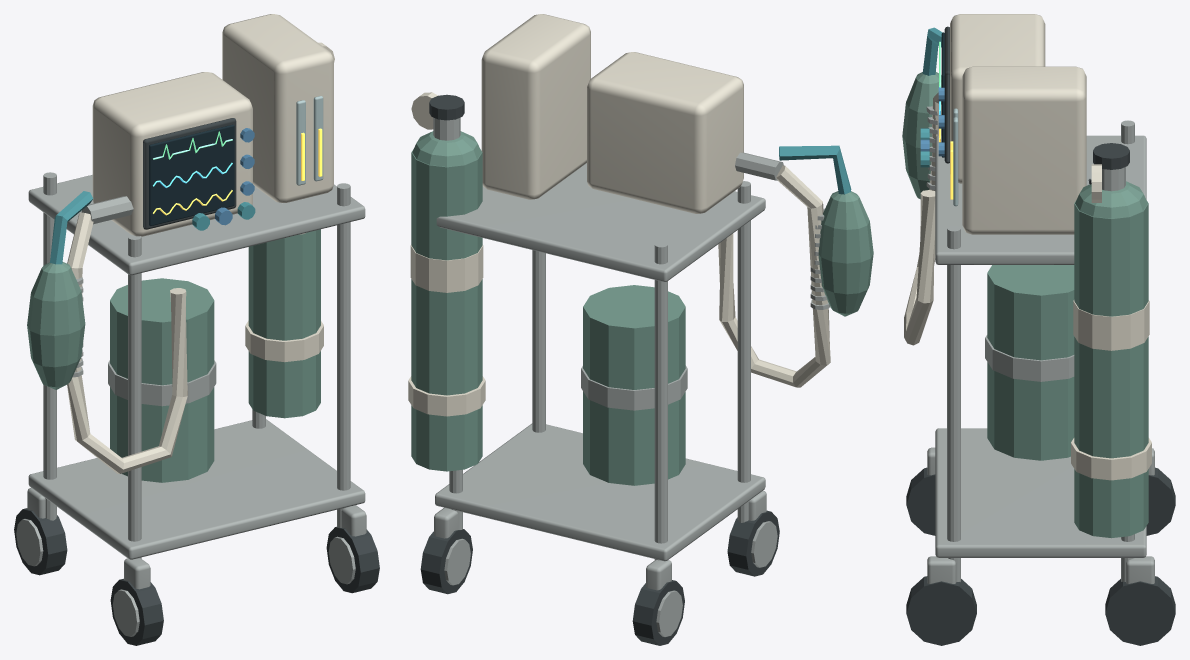
File: anesthesia_workstation_starter.glb
3 views of the same model, side by side, from view 1: azimuth 30°, elevation 25°; view 2: azimuth 150°, elevation 25°; view 3: azimuth 270°, elevation 25° (orthographic). The views are drawn at different scales.
Parts seen in each view (by area): view 1: STATIC_anesthesia_workstation_starter; view 2: STATIC_anesthesia_workstation_starter; view 3: STATIC_anesthesia_workstation_starter.
Boxes of the visible parts, x1,y1,x2,y2 form: STATIC_anesthesia_workstation_starter: (14,14,379,645); STATIC_anesthesia_workstation_starter: (408,14,873,645); STATIC_anesthesia_workstation_starter: (902,14,1175,645).
Bounding box in the file's own units: 1.1 × 1.45 × 0.66.
